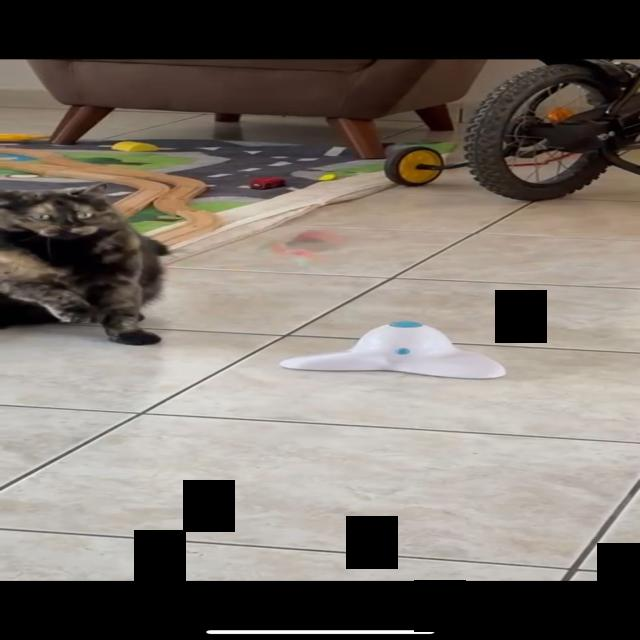authorized: (0, 181, 171, 345)
